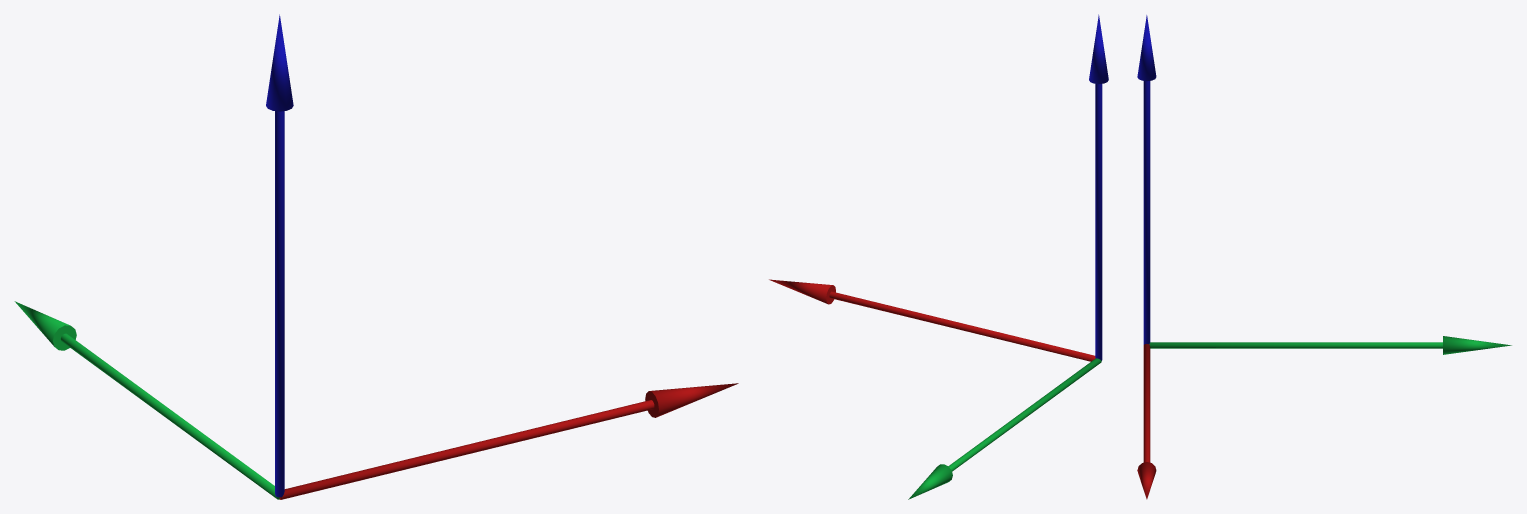
The model's file is axis.dae.
3 views of the same model, side by side, from view 1: azimuth 30°, elevation 25°; view 2: azimuth 150°, elevation 25°; view 3: azimuth 270°, elevation 25° (orthographic). The views are drawn at different scales.
Parts seen in each view (by area): view 1: axis; view 2: axis; view 3: axis.
Boxes of the visible parts, x1,y1,x2,y2 form: axis: (14, 14, 738, 499); axis: (769, 14, 1108, 499); axis: (1137, 15, 1511, 499).
Size of the model in its own units: 1.03 by 1.03 by 1.03.
1 material, 1 textured.
